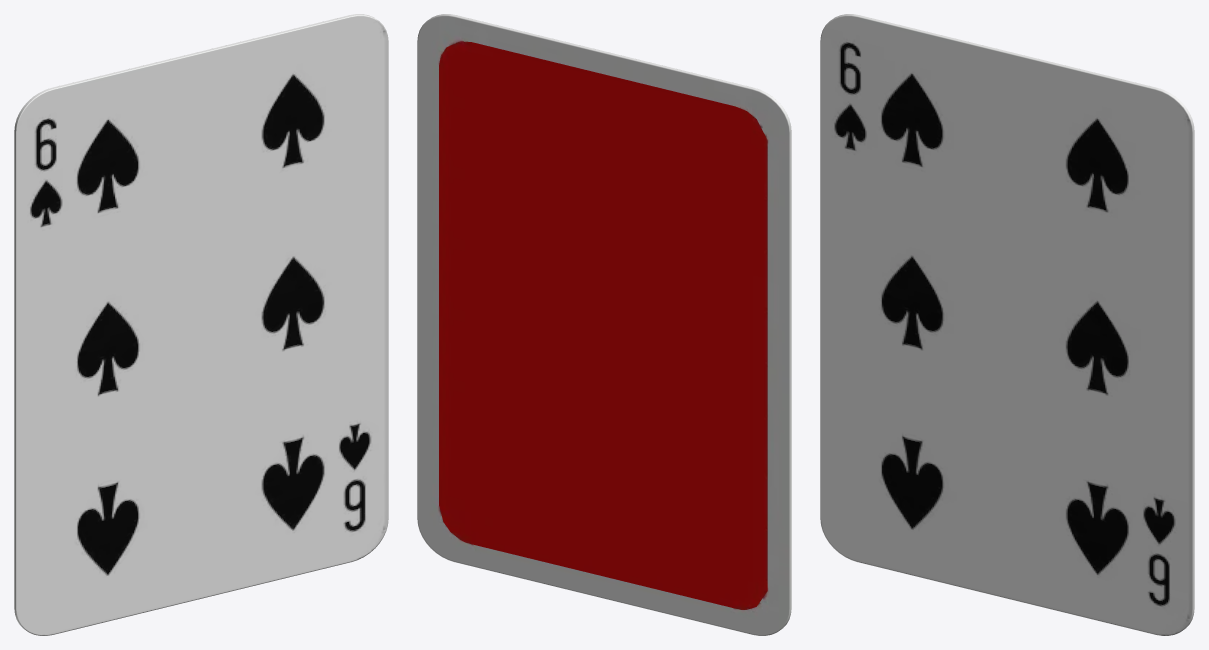
The model's file is spades_6.glb.
3 renders of one model, left to right at view 1: azimuth 30°, elevation 25°; view 2: azimuth 150°, elevation 25°; view 3: azimuth 330°, elevation 25°, orthographic.
Visible parts, largest first — view 1: defaultMaterial.006; view 2: defaultMaterial.006; view 3: defaultMaterial.006.
Boxes of the visible parts, x1,y1,x2,y2 form: defaultMaterial.006: [14, 14, 388, 635]; defaultMaterial.006: [417, 14, 791, 635]; defaultMaterial.006: [820, 14, 1194, 635].
Size of the model in its own units: 0.1408 by 0.1972 by 0.00111.
Materials: 1 (1 with a texture image).
